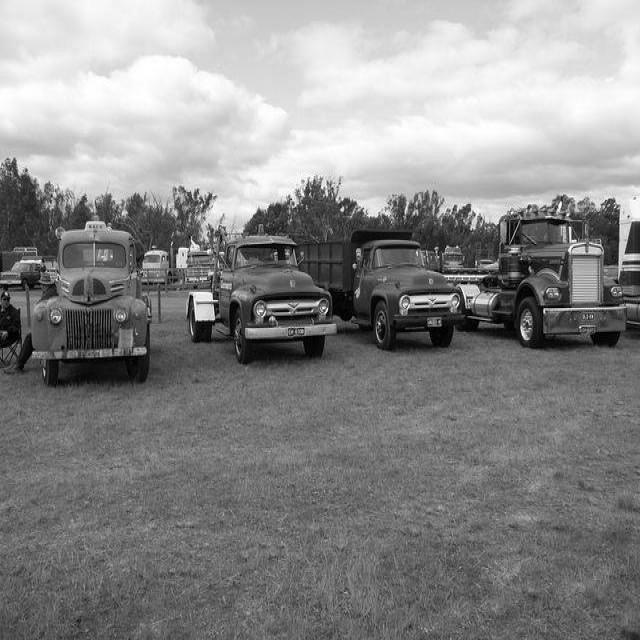vehicle: (440, 193, 628, 349), (297, 227, 462, 351), (183, 228, 331, 362), (32, 220, 150, 388), (616, 196, 640, 328), (141, 240, 183, 285), (0, 261, 57, 290), (422, 249, 439, 271), (443, 247, 463, 265)
